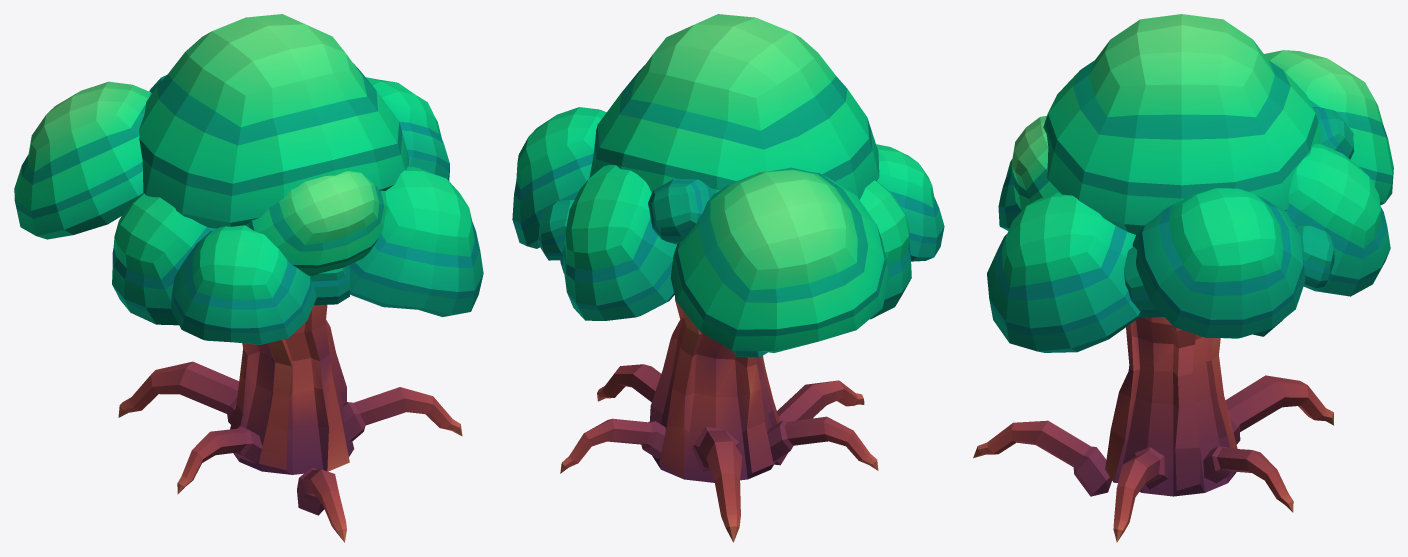
The model's file is Tree_Large_A.fbx.
The picture shows the model from 3 angles, left to right: view 1: azimuth 30°, elevation 25°; view 2: azimuth 150°, elevation 25°; view 3: azimuth 270°, elevation 25°; orthographic projection. The views are drawn at different scales.
Visible parts, largest first — view 1: Tree_Large_A; view 2: Tree_Large_A; view 3: Tree_Large_A.
Boxes of the visible parts, left/top/right/bottom form: Tree_Large_A: left=14, top=14, right=483, bottom=542; Tree_Large_A: left=512, top=14, right=944, bottom=542; Tree_Large_A: left=973, top=14, right=1393, bottom=542.
Bounding box in the file's own units: 271 × 317 × 258.
